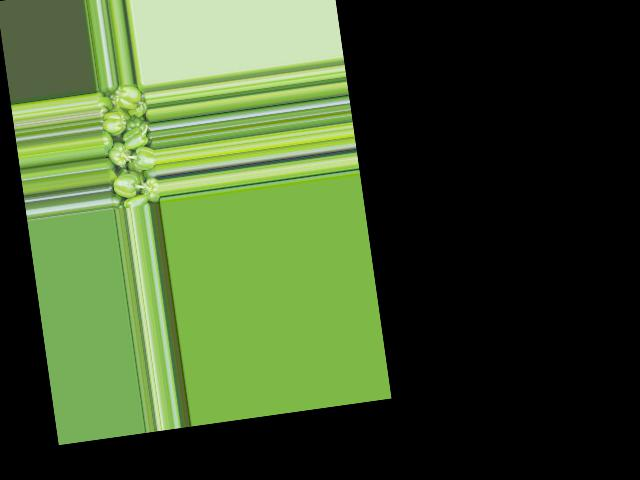bell_pepper: (95, 82, 159, 208)
